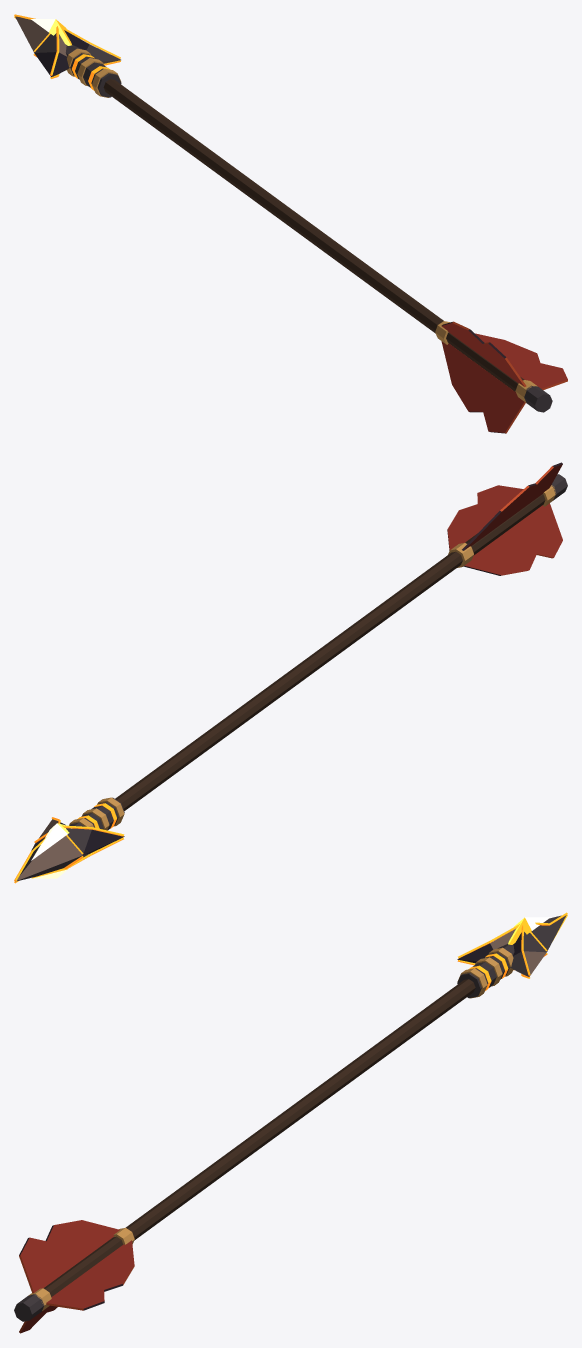
File: Meteoric Arrows-DeVSHwbh.glb
3 views of the same model, one above another, from view 1: azimuth 30°, elevation 25°; view 2: azimuth 150°, elevation 25°; view 3: azimuth 330°, elevation 25° (orthographic). The views are drawn at different scales.
Parts seen in each view (by area): view 1: Meteoric_Arrow; view 2: Meteoric_Arrow; view 3: Meteoric_Arrow.
Boxes of the visible parts, <box> form: Meteoric_Arrow: <box>14,14,567,433</box>; Meteoric_Arrow: <box>14,462,567,883</box>; Meteoric_Arrow: <box>14,912,567,1333</box>.
Bounding box in the file's own units: 0.1343 × 0.1366 × 1.46.
